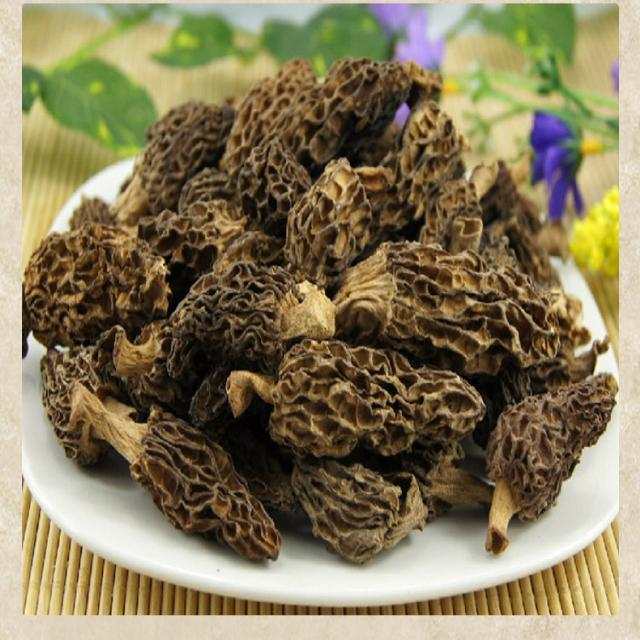Morchella esculenta: (23, 51, 620, 560)
